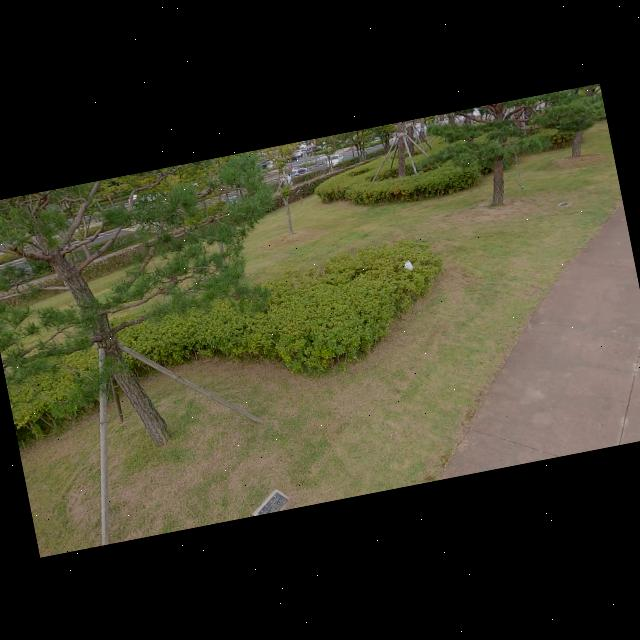trash: (402, 256, 414, 272)
